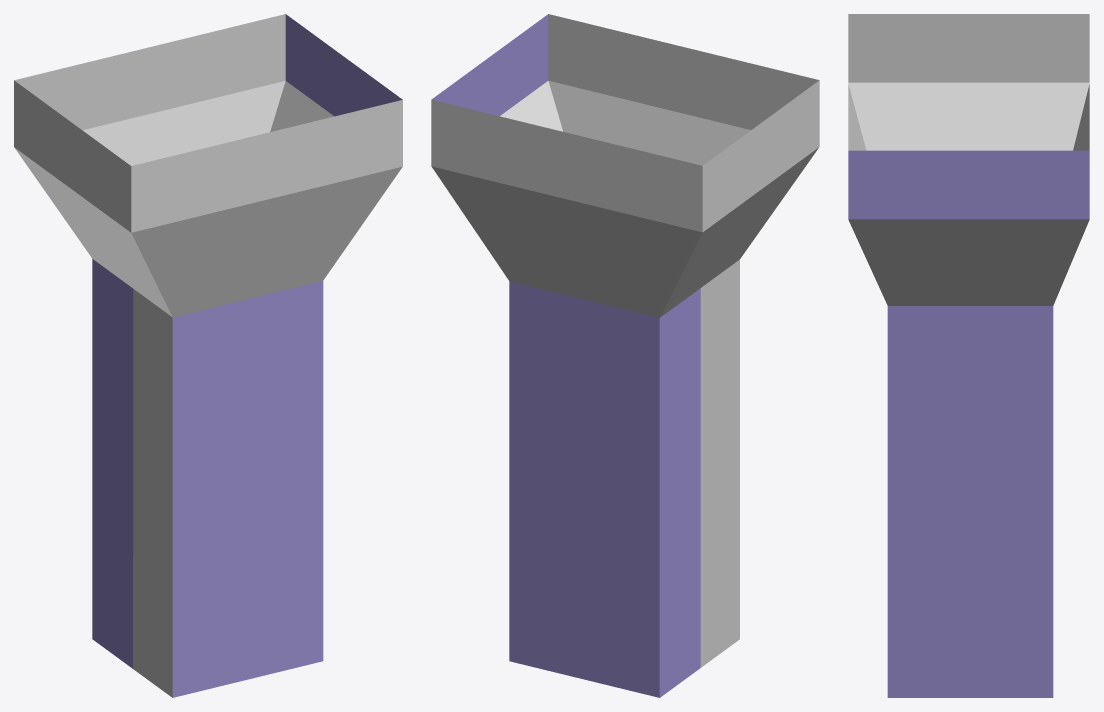
Rendered from pillar collider.fbx.
3 views of the same model, side by side, from view 1: azimuth 30°, elevation 25°; view 2: azimuth 150°, elevation 25°; view 3: azimuth 270°, elevation 25° (orthographic). The views are drawn at different scales.
Visible parts, largest first — view 1: pillar collider; view 2: pillar collider; view 3: pillar collider.
Part boxes in pixels (x1,y1,x2,y2): pillar collider: (14, 14, 402, 697); pillar collider: (431, 14, 819, 697); pillar collider: (848, 14, 1089, 697).
Size of the model in its own units: 328 by 647 by 245.
